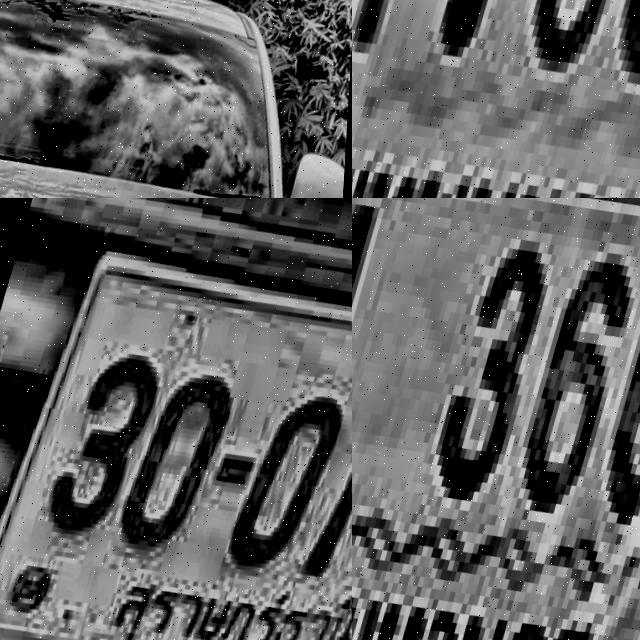license-plate: (0, 198, 352, 640), (352, 198, 640, 640), (352, 0, 640, 198)
